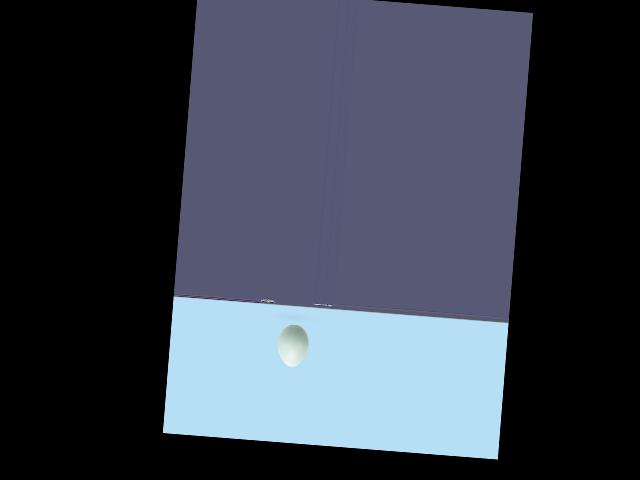egg: (276, 323, 310, 368)
